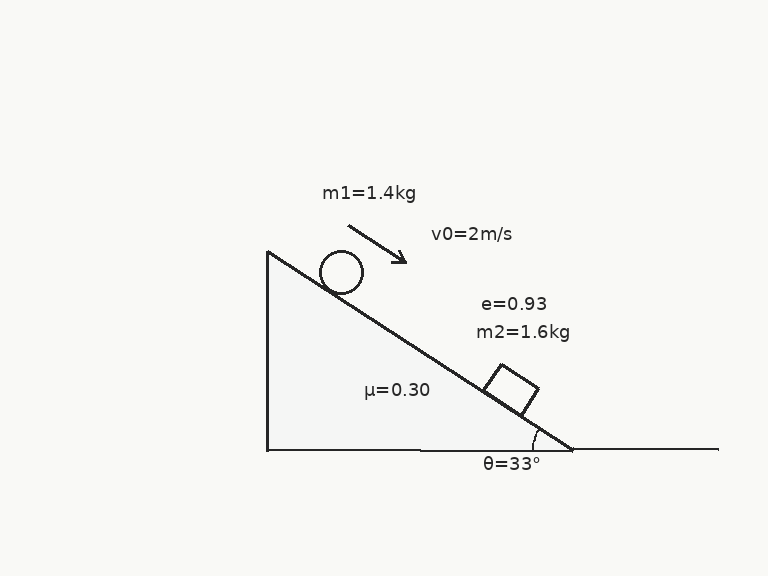ball: (317, 248, 365, 296)
block: (481, 362, 540, 417)
ramp: (266, 249, 575, 451)
